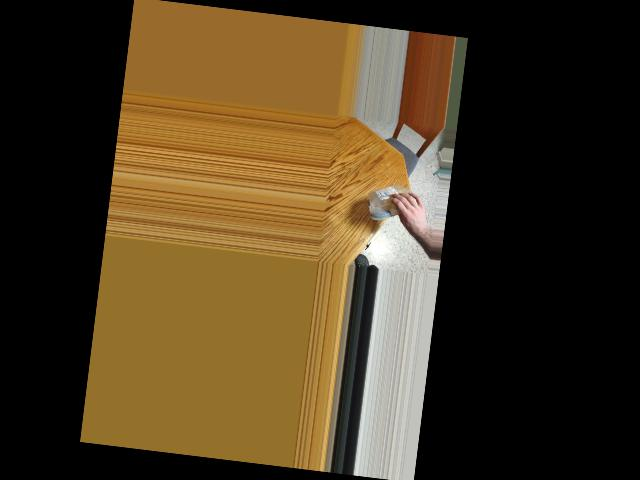cheese: (371, 185, 411, 218)
